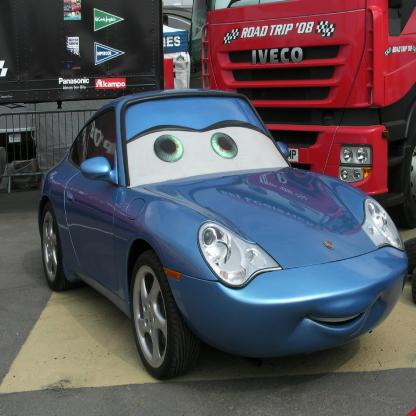Car: (37, 86, 409, 381)
Truck: (204, 0, 416, 230)
